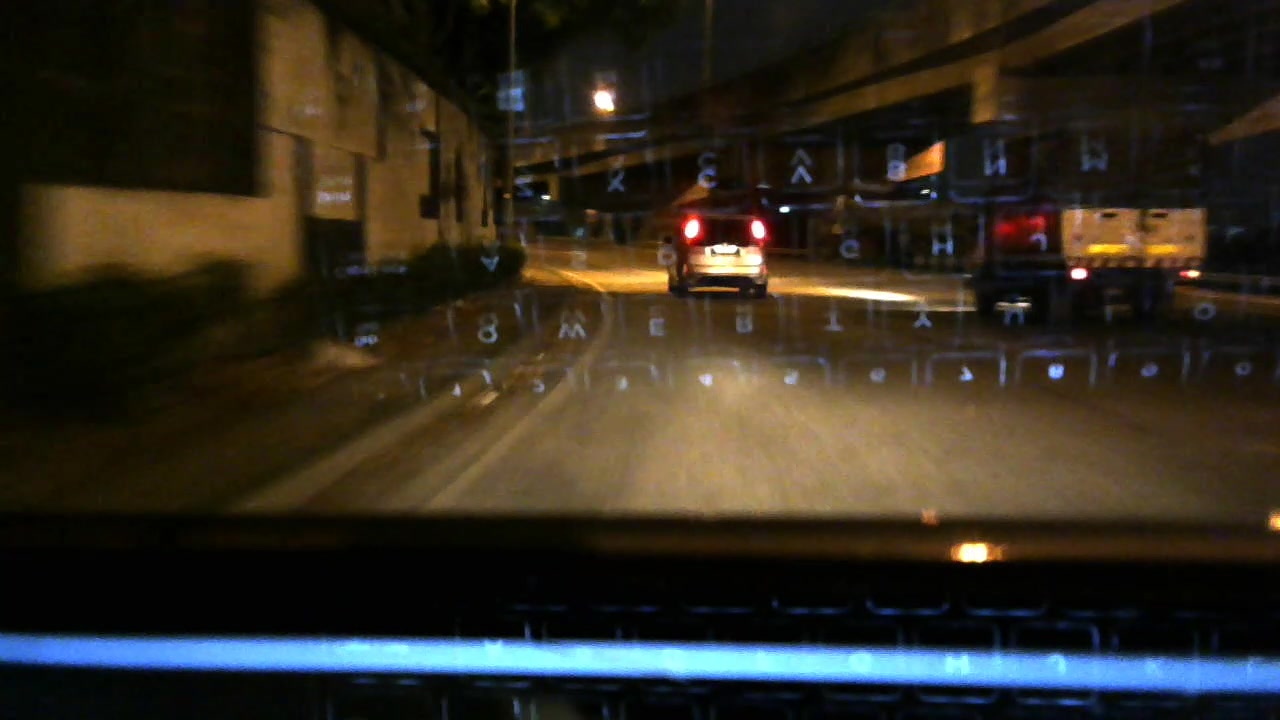Car: (671, 198, 781, 308)
